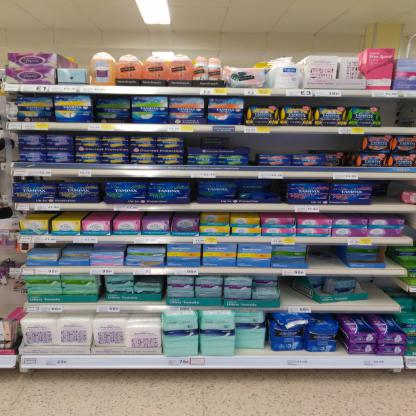Void: (249, 134, 362, 152), (250, 97, 376, 106), (383, 97, 410, 127), (366, 277, 398, 302), (189, 132, 243, 146), (306, 246, 340, 267), (281, 280, 311, 302)
